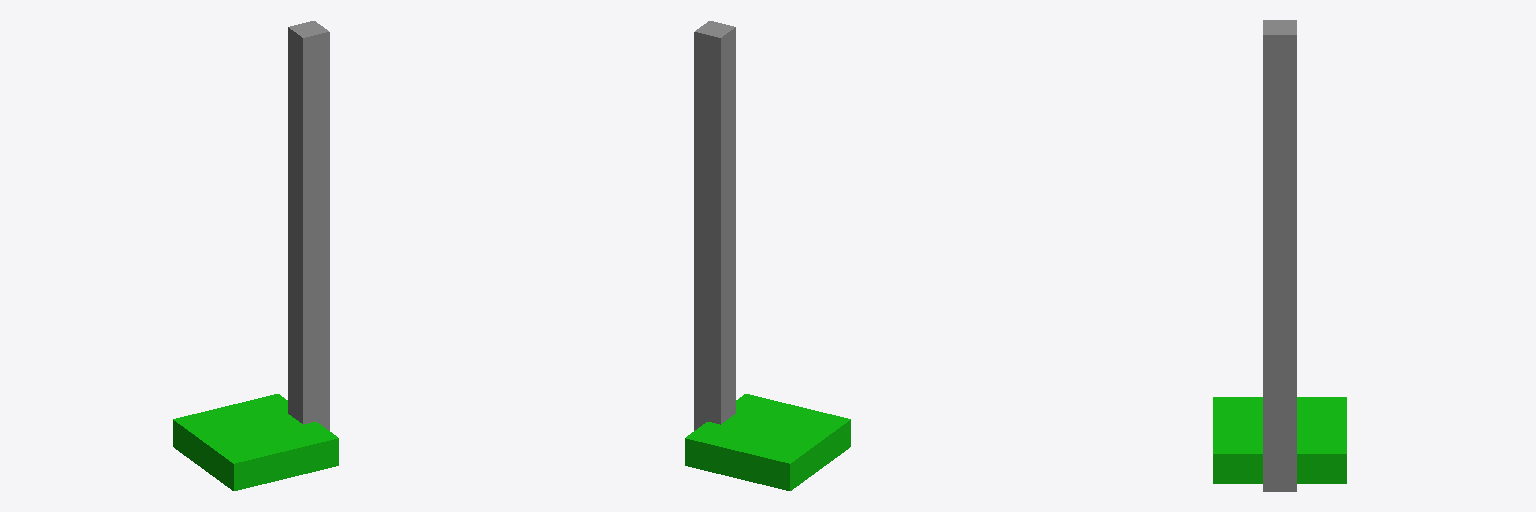
The robot description file, URDF, robot "linear_guide":
<?xml version="1.0"?>
<robot name="linear_guide">

  <!-- Fixed vertical column -->
  <link name="fixed_column">
    <visual>
      <geometry><box size="0.1 0.1 1.5"/></geometry>
      <origin xyz="0.15 0 0.75" rpy="0 0 0"/>
      <material name="Gray"><color rgba="0.6 0.6 0.6 1.0"/></material>
    </visual>
    <collision>
      <geometry><box size="0.1 0.1 1.5"/></geometry>
      <origin xyz="0.15 0 0.75" rpy="0 0 0"/>
    </collision>
    <inertial>
      <mass value="10"/>
      <origin xyz="0.15 0 0.75"/>
      <inertia ixx="0.1" iyy="0.1" izz="0.1" ixy="0" ixz="0" iyz="0"/>
    </inertial>
  </link>

  <!-- Moving base -->
  <link name="moving_base">
    <visual>
      <geometry><box size="0.4 0.4 0.1"/></geometry>
      <origin xyz="0 0 0.05" rpy="0 0 0"/>
      <material name="Green"><color rgba="0.1 0.8 0.1 1.0"/></material>
    </visual>
    <collision>
      <geometry><box size="0.4 0.4 0.1"/></geometry>
      <origin xyz="0 0 0.05" rpy="0 0 0"/>
    </collision>
    <inertial>
      <mass value="5"/>
      <origin xyz="0 0 0.05"/>
      <inertia ixx="0.05" iyy="0.05" izz="0.05" ixy="0" ixz="0" iyz="0"/>
    </inertial>
  </link>

  <!-- Prismatic joint -->
  <joint name="lift_joint" type="prismatic">
    <parent link="fixed_column"/>
    <child link="moving_base"/>
    <origin xyz="-0.05 0 0" rpy="0 0 0"/>
    <axis xyz="0 0 1"/>
    <limit lower="0.0" upper="1.0" effort="100.0" velocity="1.0"/>
  </joint>

  <gazebo reference="fixed_column">
    <material>Gazebo/Blue</material>
  </gazebo>
  <gazebo reference="moving_base">
    <material>Gazebo/Red</material>
  </gazebo>

  <!-- ROS 2 Control -->
  <ros2_control name="gazebo_ros2_control_linear_guide" type="system">
    <hardware>
      <plugin>gazebo_ros2_control/GazeboSystem</plugin>
    </hardware>
    <joint name="lift_joint">
      <command_interface name="position"/>
      <state_interface name="position"/>
      <state_interface name="velocity"/>
    </joint>
  </ros2_control>

  <transmission name="lift_trans">
    <type>transmission_interface/SimpleTransmission</type>
    <joint name="lift_joint">
      <hardwareInterface>hardware_interface/PositionJointInterface</hardwareInterface>
    </joint>
    <actuator name="lift_motor">
      <mechanicalReduction>1</mechanicalReduction>
    </actuator>
  </transmission>
</robot>

--- Facts derived from the render (not from the file) ---
Views: 3 orthographic renders of the robot side by side, from view 1: azimuth 30°, elevation 25°; view 2: azimuth 150°, elevation 25°; view 3: azimuth 270°, elevation 25°.
Model linear_guide with 2 links and 1 joints (1 prismatic), rooted at fixed_column, posed every joint at zero.
Visible links, largest first — view 1: fixed_column, moving_base; view 2: fixed_column, moving_base; view 3: fixed_column, moving_base.
Boxes of the visible links, x1,y1,x2,y2 form: fixed_column: (288,21,329,430); moving_base: (173,394,338,490); fixed_column: (694,21,735,430); moving_base: (685,394,850,490); fixed_column: (1263,20,1296,491); moving_base: (1213,397,1346,483).
Size in the robot's own frame: 0.45 by 0.4 by 1.5 metres.
Geometry: primitives only (box / cylinder / sphere), no mesh files.